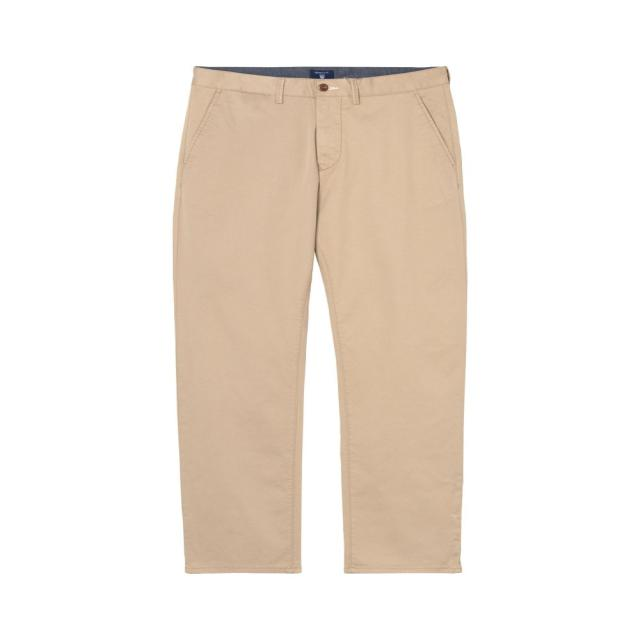long-pants: (172, 67, 468, 578)
